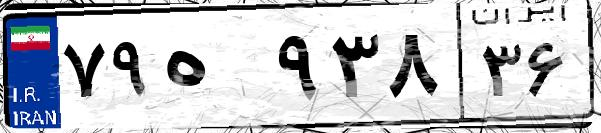3: (330, 28, 385, 110), (475, 38, 525, 113)
6: (525, 38, 570, 115)
7: (57, 26, 110, 100)
8: (385, 28, 445, 110)
9: (270, 28, 330, 110), (110, 28, 158, 98)
ه: (158, 20, 270, 120)
